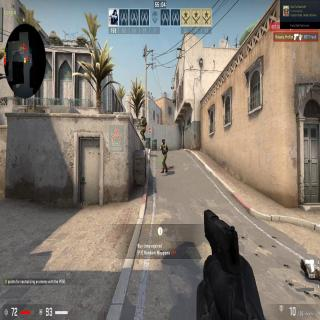CT-Body: (160, 135, 168, 174), (139, 116, 147, 139)
CT-Head: (162, 137, 165, 144), (141, 116, 144, 121)
